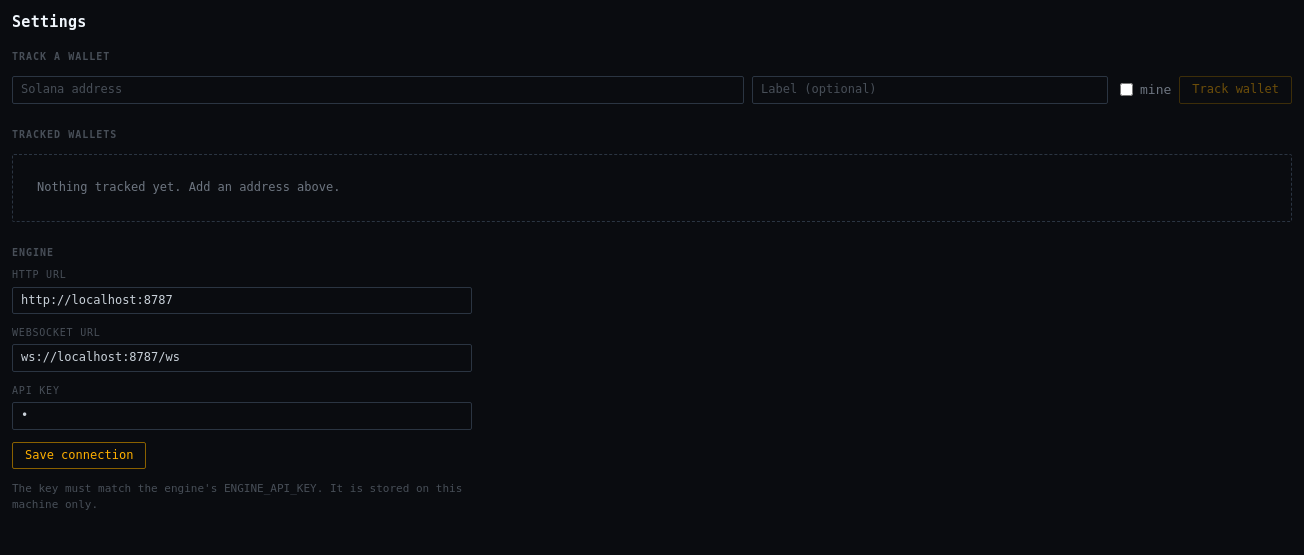
it: SettingsTab › drops the saved notice once the form is edited again
This screenshot has width=1304, height=555.
Click the button "Save connection" at coordinates (79, 455), box top-left (12, 442), bottom-right (146, 469)
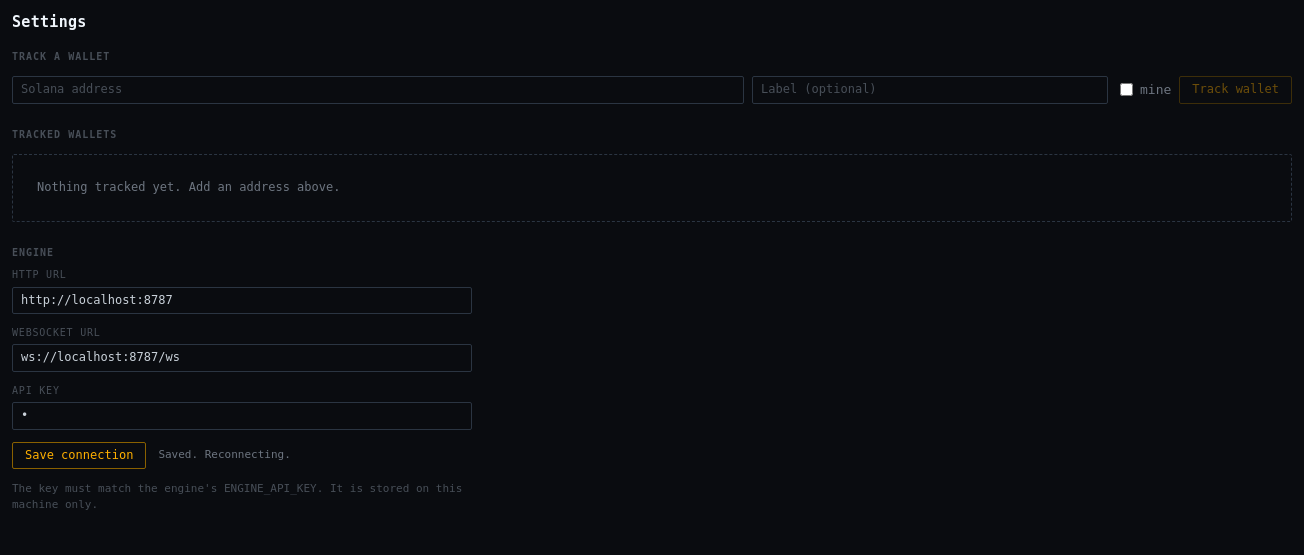
Type "x" into the password field named "Engine API key" at coordinates (242, 416), box top-left (12, 402), bottom-right (472, 430)
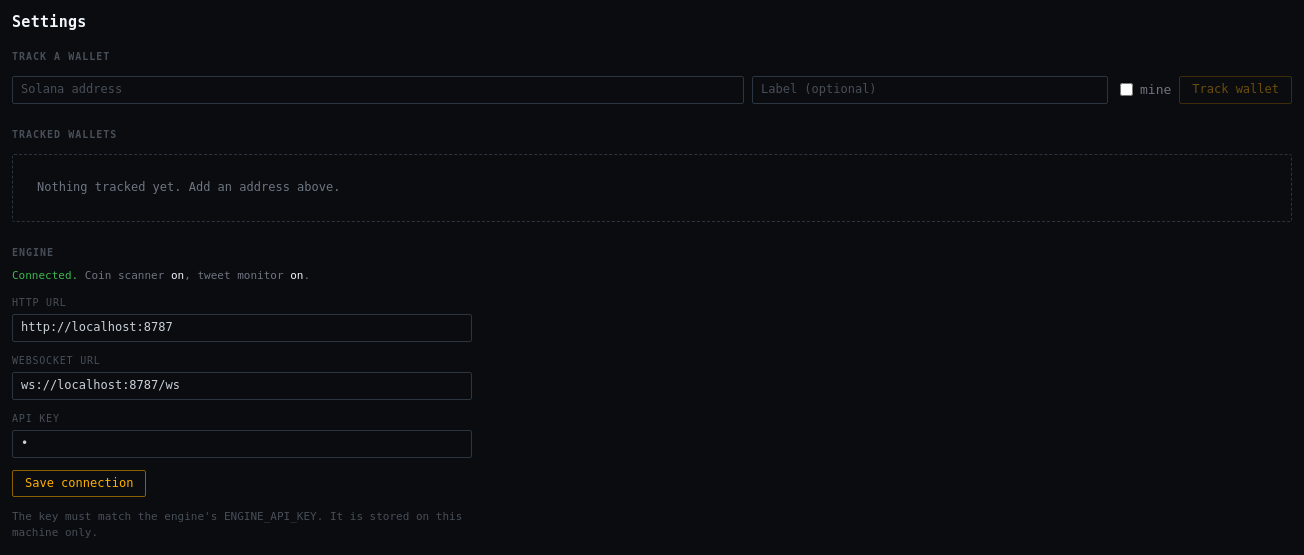
Result: the text "Saved. Reconnecting." is gone
